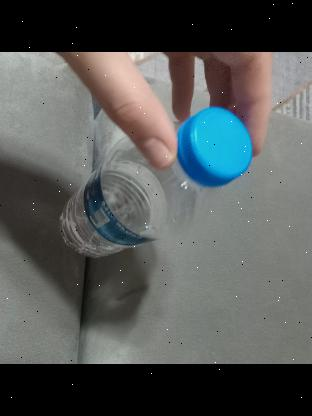Plastic Bottle: (55, 97, 253, 257)
